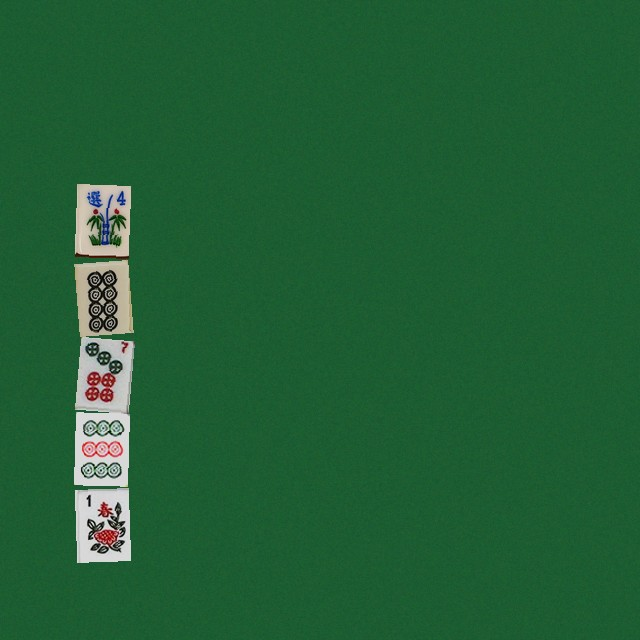tile: (74, 184, 128, 257), (74, 260, 128, 333), (74, 336, 128, 409), (74, 412, 128, 485), (74, 488, 128, 561)
